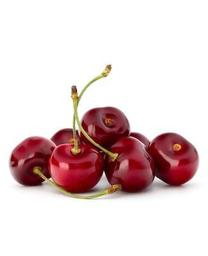cherry: (148, 131, 199, 186), (105, 137, 154, 191), (50, 144, 103, 192), (10, 136, 57, 185), (82, 107, 131, 149), (50, 128, 92, 170)
